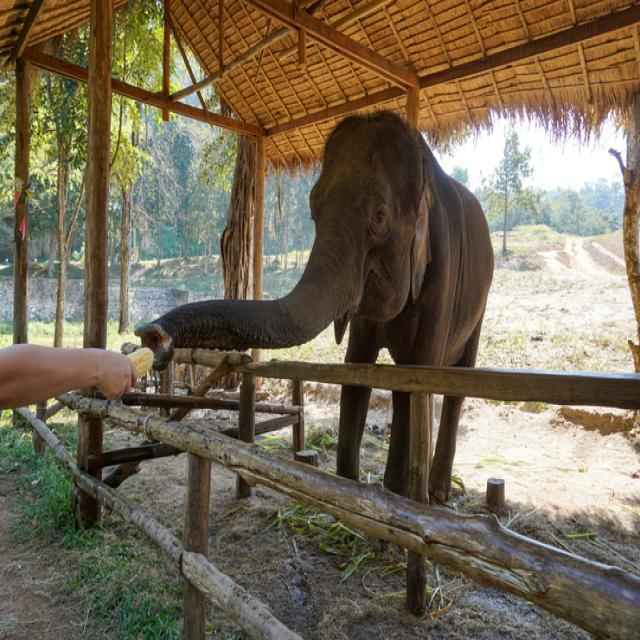Elephant: (145, 103, 504, 546)
